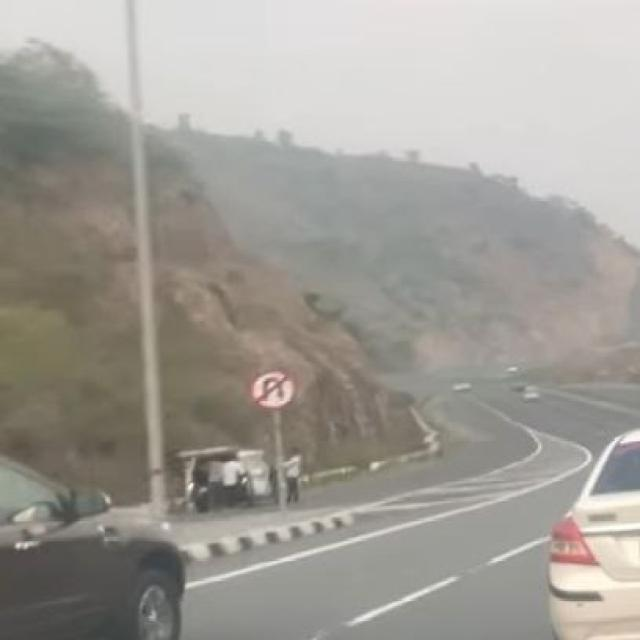no_uturn: (248, 363, 309, 410)
